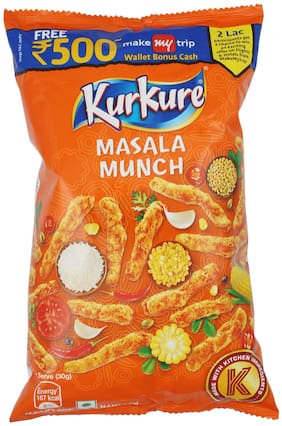kurkure: (66, 77, 213, 126)
plastic: (30, 30, 196, 179)
wrapper: (12, 13, 275, 413)
